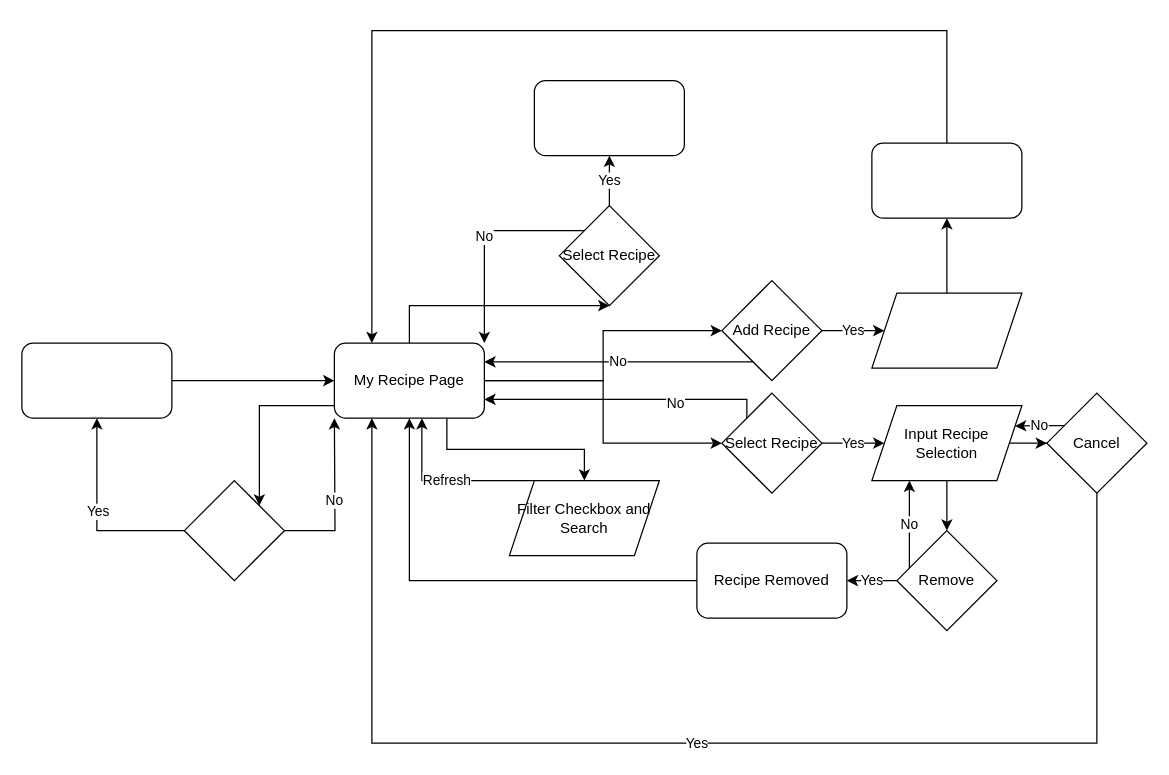
Image size: 1169x775. Some labels were removed from this diagram. The shapes that lost their labels are listed below. From the top down, each one's box as (x1, y1, x2, y2) in pixels, then its label:
(533, 79, 684, 156): Recipe Page
(871, 142, 1022, 218): Recipe Added
(871, 292, 1022, 368): Input URL
(21, 342, 172, 418): Main Display Page
(183, 479, 284, 581): Click Homepage
